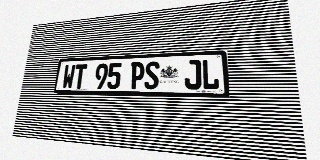5: (107, 63, 122, 89)
9: (94, 63, 109, 89)
J: (185, 60, 201, 90)
L: (202, 59, 220, 90)
P: (129, 62, 145, 89)
S: (144, 61, 160, 89)
T: (73, 64, 87, 89)
W: (62, 64, 76, 89)
